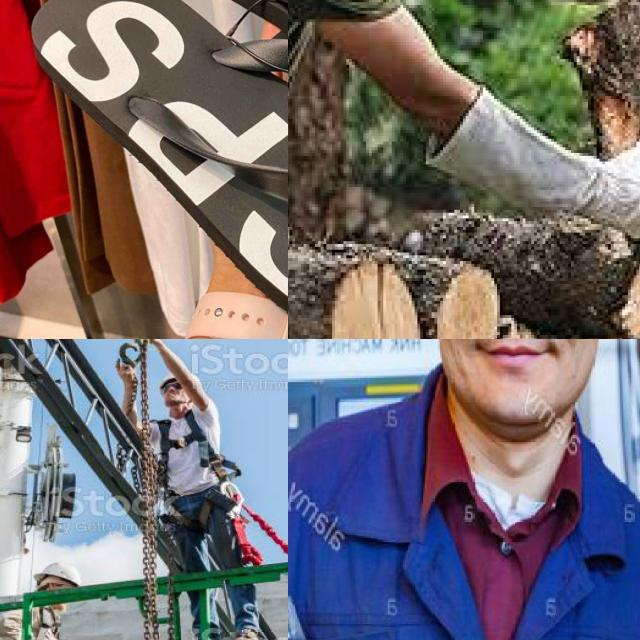Harness: (147, 406, 238, 506)
Sandals: (8, 0, 288, 339)
face_nomask: (444, 339, 589, 375)
hand_glove: (429, 88, 640, 234)
person: (288, 339, 640, 640)
